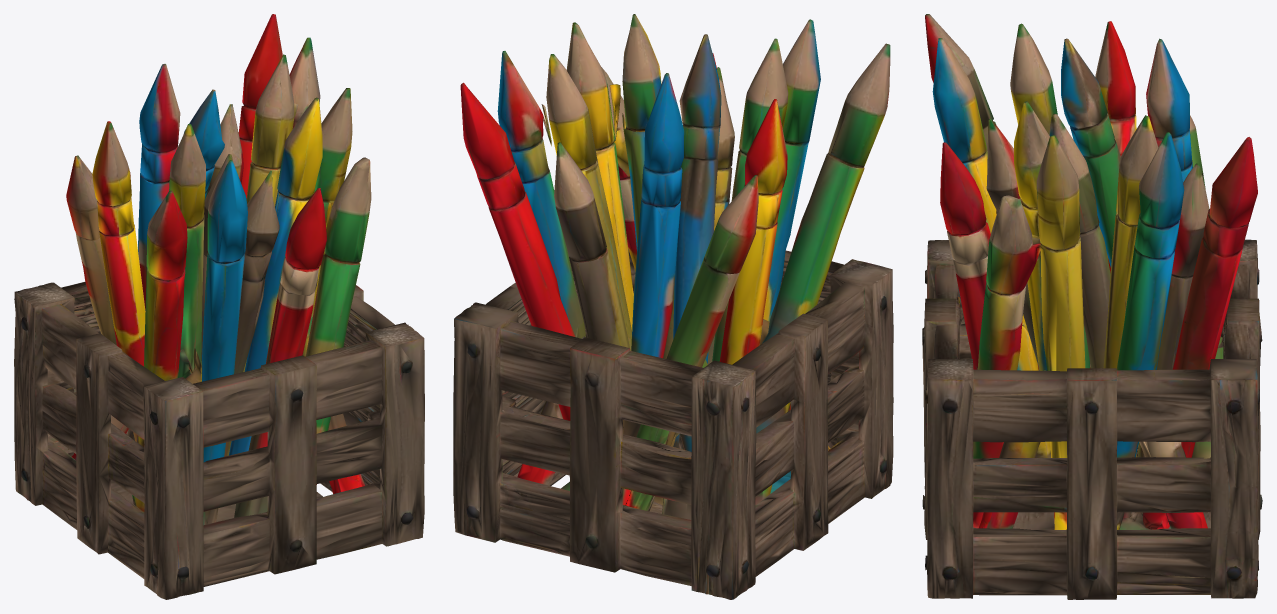
Rendered from toit-feux.glb.
The picture shows the model from 3 angles, left to right: view 1: azimuth 30°, elevation 25°; view 2: azimuth 150°, elevation 25°; view 3: azimuth 270°, elevation 25°; orthographic projection. The views are drawn at different scales.
Size of the model in its own units: 1.22 by 1.9 by 1.22.
Materials: 1 (1 with a texture image).
